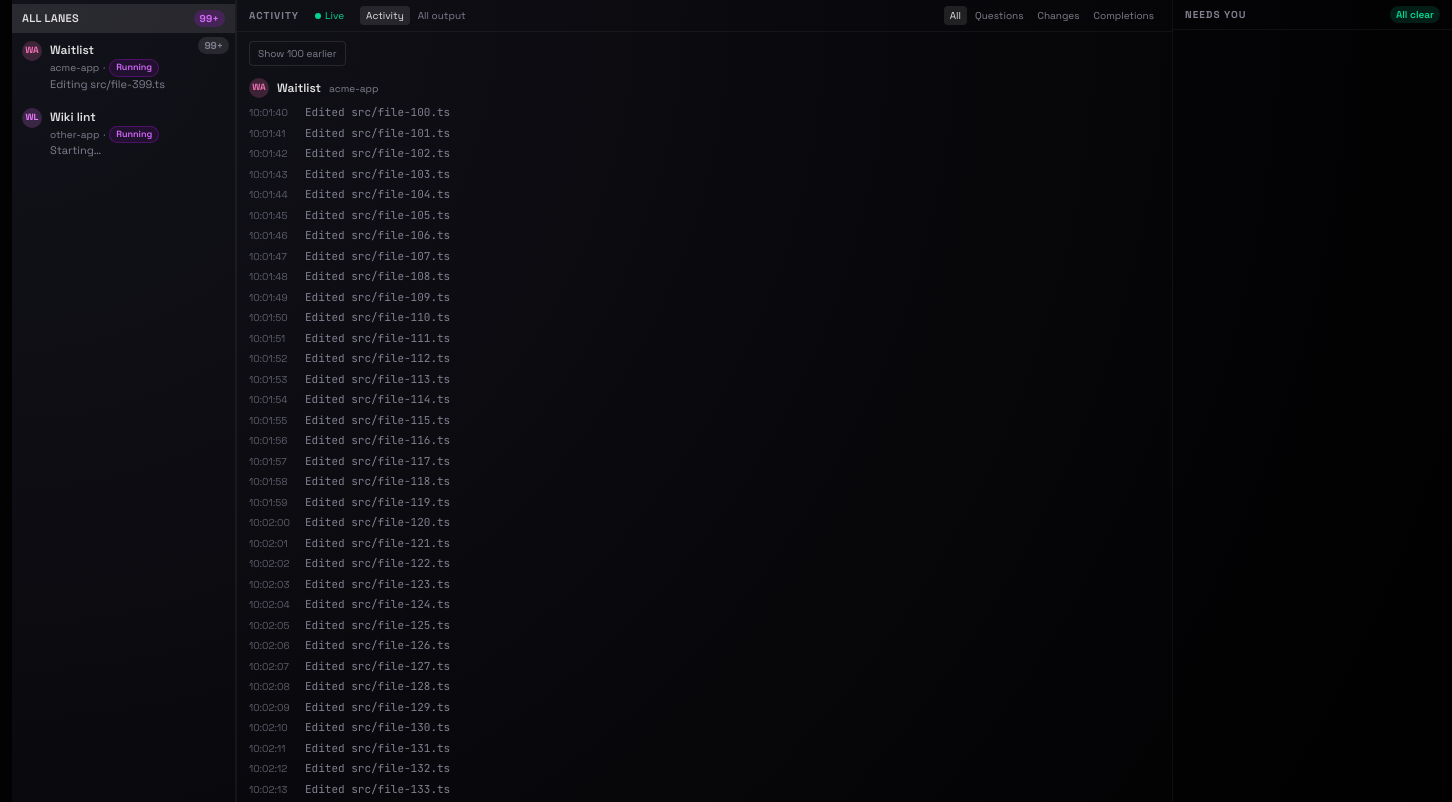
Test: ActivityFeed windowing › renders only the newest 300 rows and offers to reveal more
Expected: the text "Edited src/file-0.ts" is not shown
Click the button "Show 100 earlier".
click(297, 54)  # box [249,41,346,66]
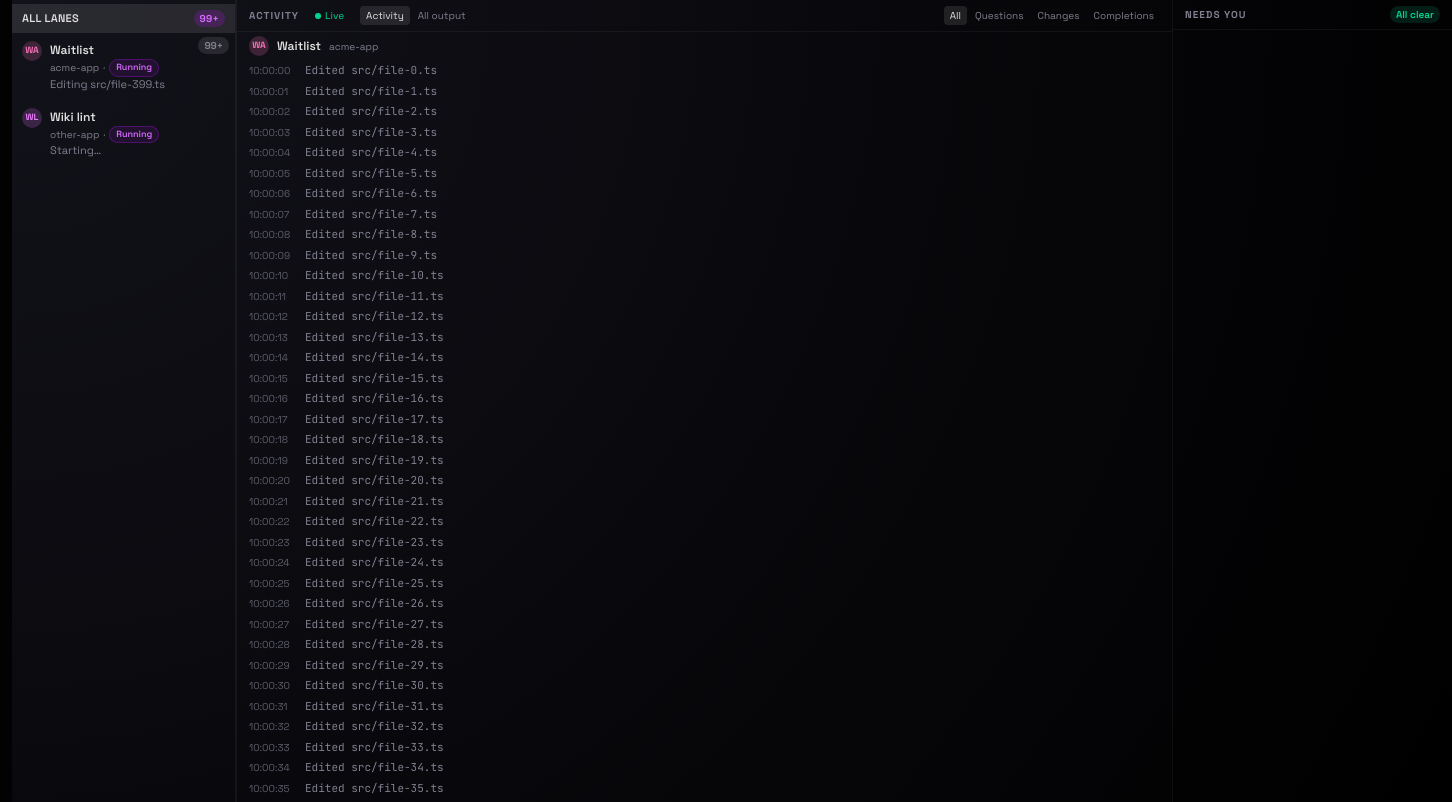
Result: the text "Edited src/file-0.ts" is shown at [305,62,437,78]
